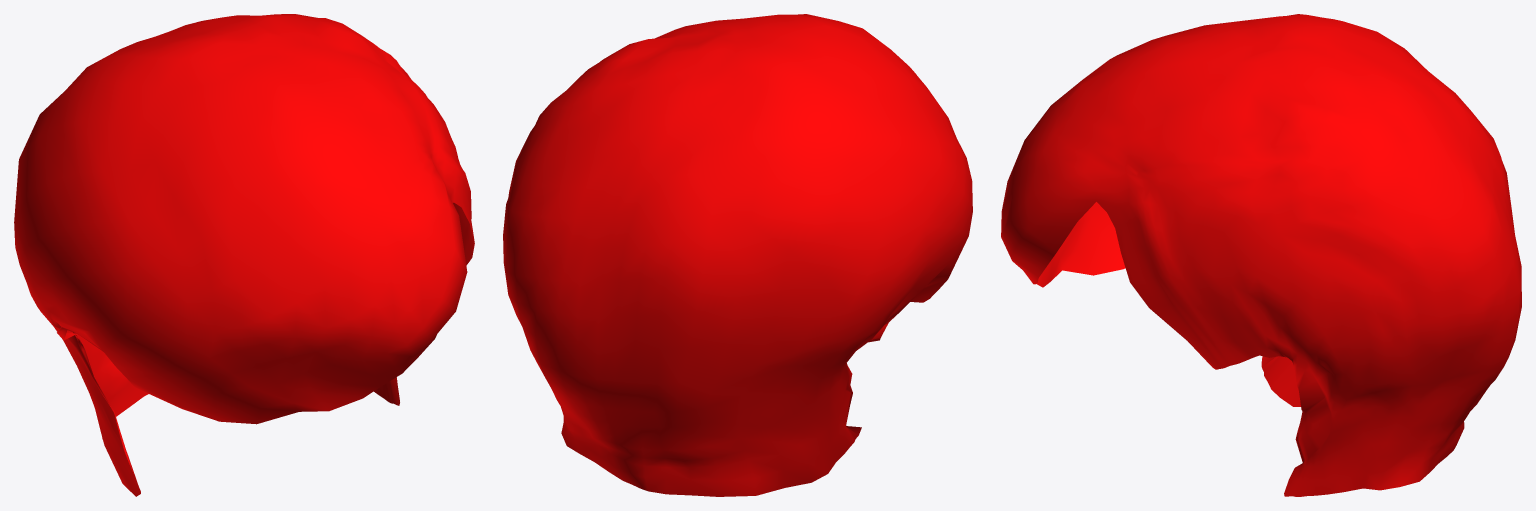
File: short03_M.glb
3 views of the same model, side by side, from view 1: azimuth 30°, elevation 25°; view 2: azimuth 150°, elevation 25°; view 3: azimuth 270°, elevation 25° (orthographic). The views are drawn at different scales.
Size of the model in its own units: 0.1963 by 0.2047 by 0.2335.
Materials: 1 (1 with a texture image).
